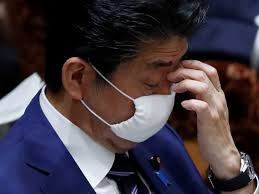mask: (47, 19, 201, 143)
